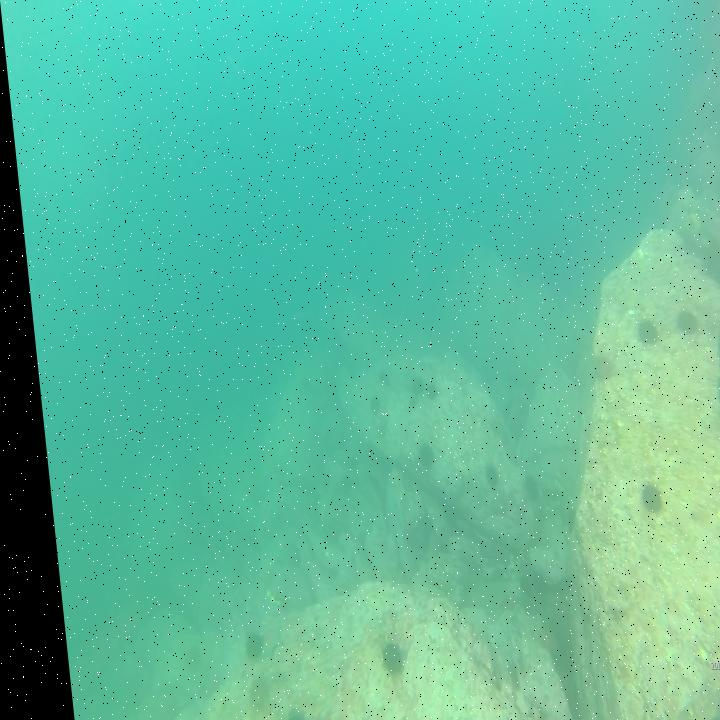echinus: (365, 634, 394, 680), (626, 478, 657, 514), (510, 466, 535, 503), (468, 452, 492, 490), (582, 351, 610, 383), (404, 434, 428, 470), (230, 677, 257, 708), (227, 628, 253, 660), (669, 306, 693, 340), (170, 640, 190, 672), (630, 319, 651, 346), (358, 387, 375, 419), (413, 380, 431, 402), (400, 372, 416, 394)
